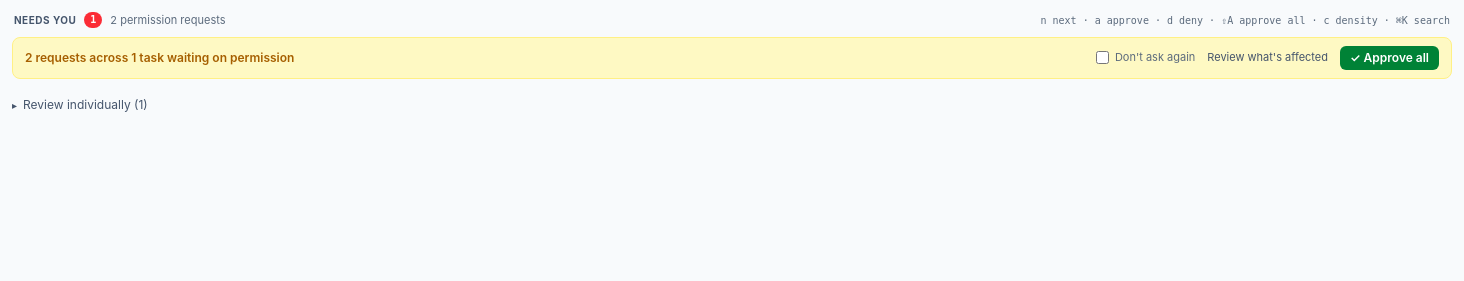
agentTriageBand denied-by-default requests › keeps the decision row when only some requests are denied
Step 1. Click the button "▸ Review individually (1)" → click(80, 105), box [12,97,148,113]
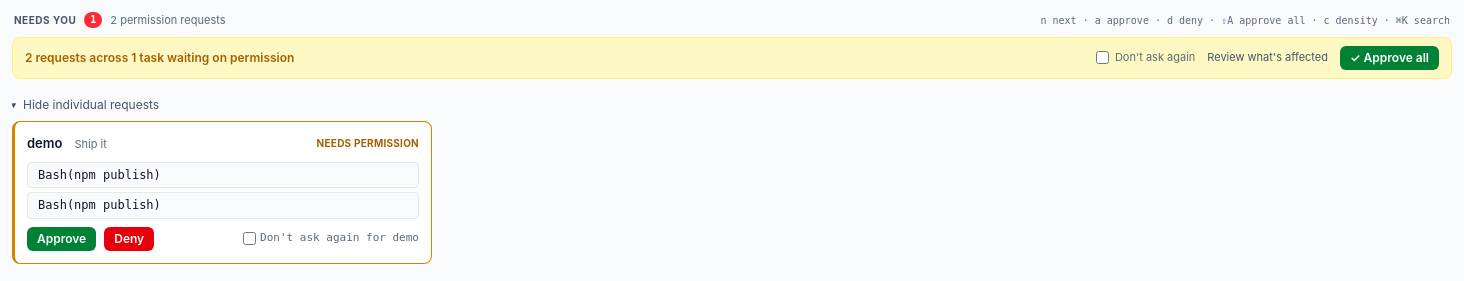
Result: the button with test id "permission-item-approve" is shown at [27,227,96,251]
